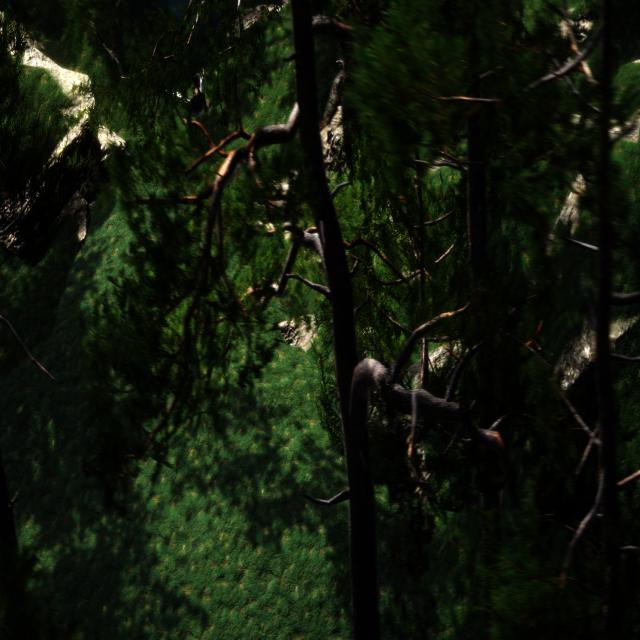Human: (163, 62, 215, 116)
